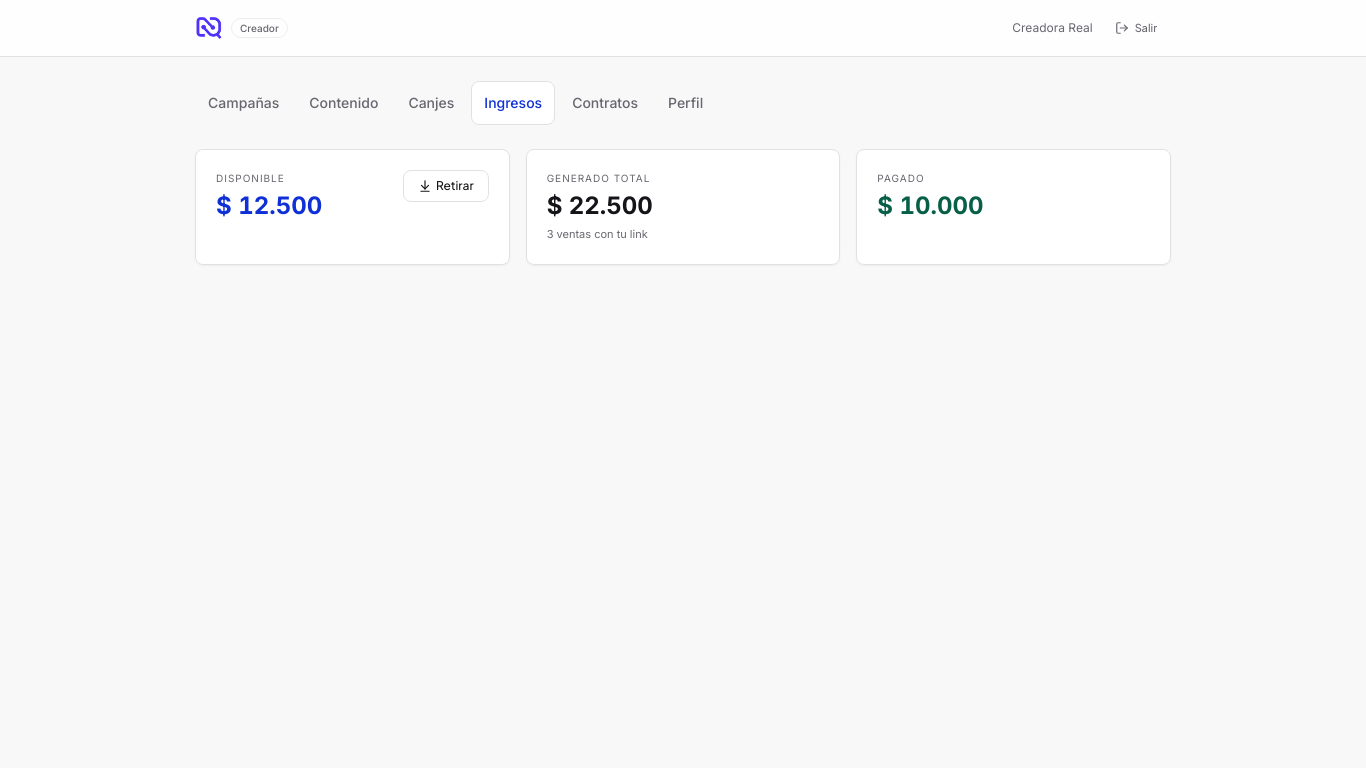
Scenario: portal autenticado: saldo y retiros con destino propio › no ofrece retirar con saldo cero y exige destino cuando hay saldo
Click the button "Retirar". click: (446, 186)
box: 403,170 -> 489,202
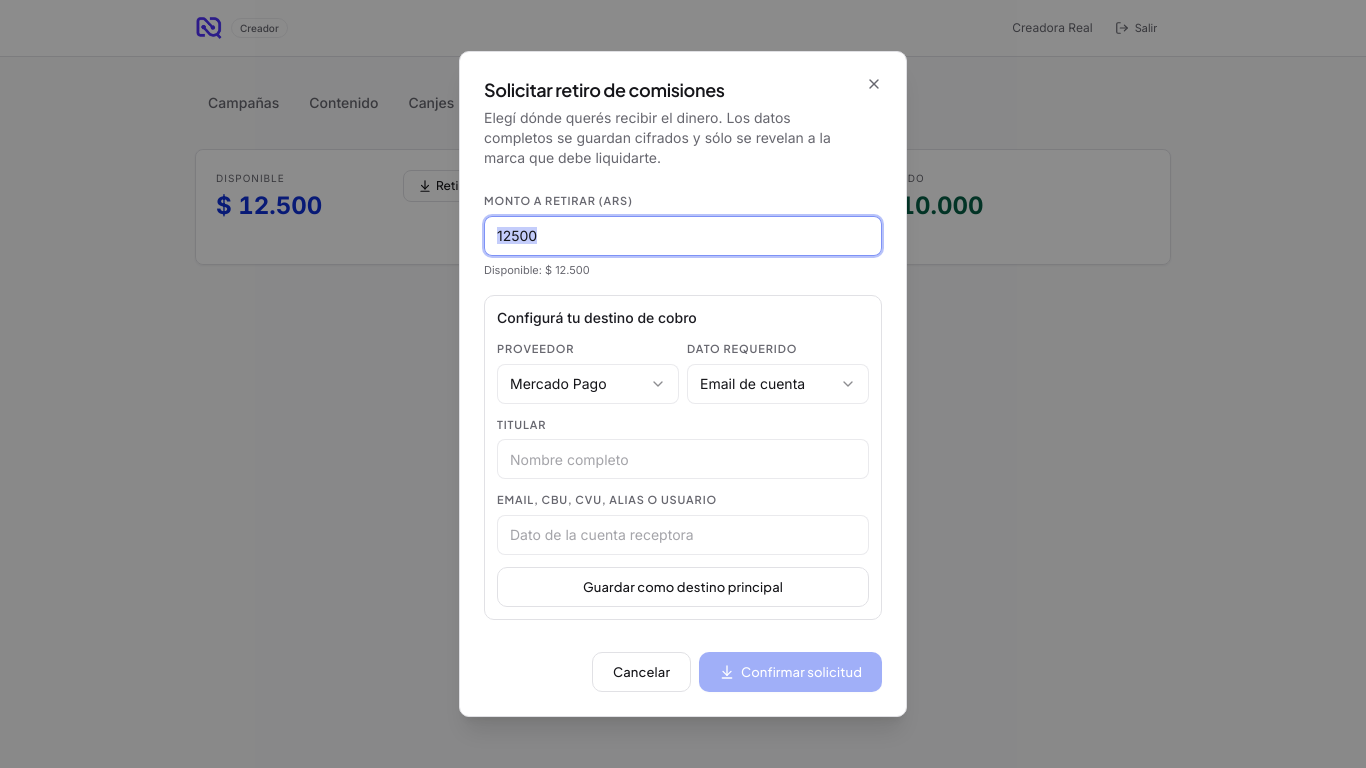
Expected: the button "Confirmar solicitud" is disabled, 699,652 -> 882,692
